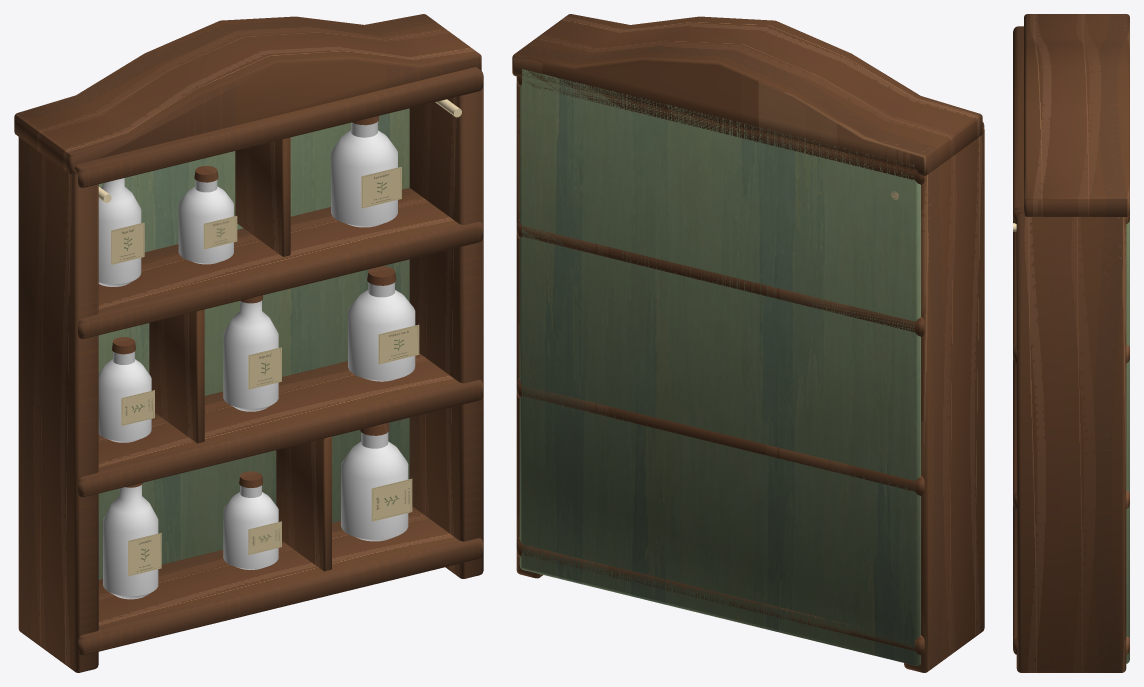
Rendered from CM_LI03_ReagentCabinet.fbx.
The picture shows the model from 3 angles, left to right: view 1: azimuth 30°, elevation 25°; view 2: azimuth 150°, elevation 25°; view 3: azimuth 270°, elevation 25°; orthographic projection. The views are drawn at different scales.
Parts seen in each view (by area): view 1: CM_LI03_ReagentCabinet; view 2: CM_LI03_ReagentCabinet; view 3: CM_LI03_ReagentCabinet.
Part boxes in pixels (x1=…): CM_LI03_ReagentCabinet: x1=14, y1=14, x2=483, y2=672; CM_LI03_ReagentCabinet: x1=512, y1=14, x2=984, y2=672; CM_LI03_ReagentCabinet: x1=1013, y1=14, x2=1129, y2=672.
Bounding box in the file's own units: 1.2 × 1.56 × 0.32.
